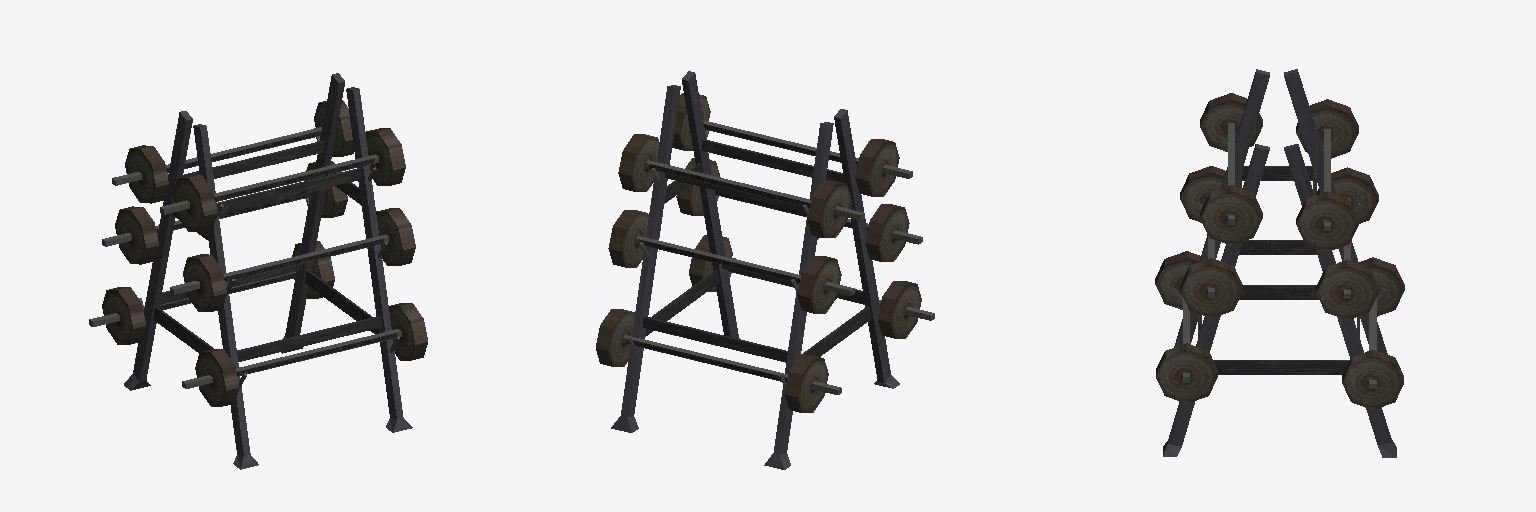
3 views of the same model, side by side, from view 1: azimuth 30°, elevation 25°; view 2: azimuth 150°, elevation 25°; view 3: azimuth 270°, elevation 25° (orthographic).
Parts seen in each view (by area): view 1: br_weights; view 2: br_weights; view 3: br_weights.
Boxes of the visible parts, x1,y1,x2,y2 form: br_weights: [89, 73, 427, 469]; br_weights: [596, 71, 934, 469]; br_weights: [1155, 69, 1404, 457].
Size of the model in its own units: 91.98 by 114 by 83.8.
1 materials, 1 textured.